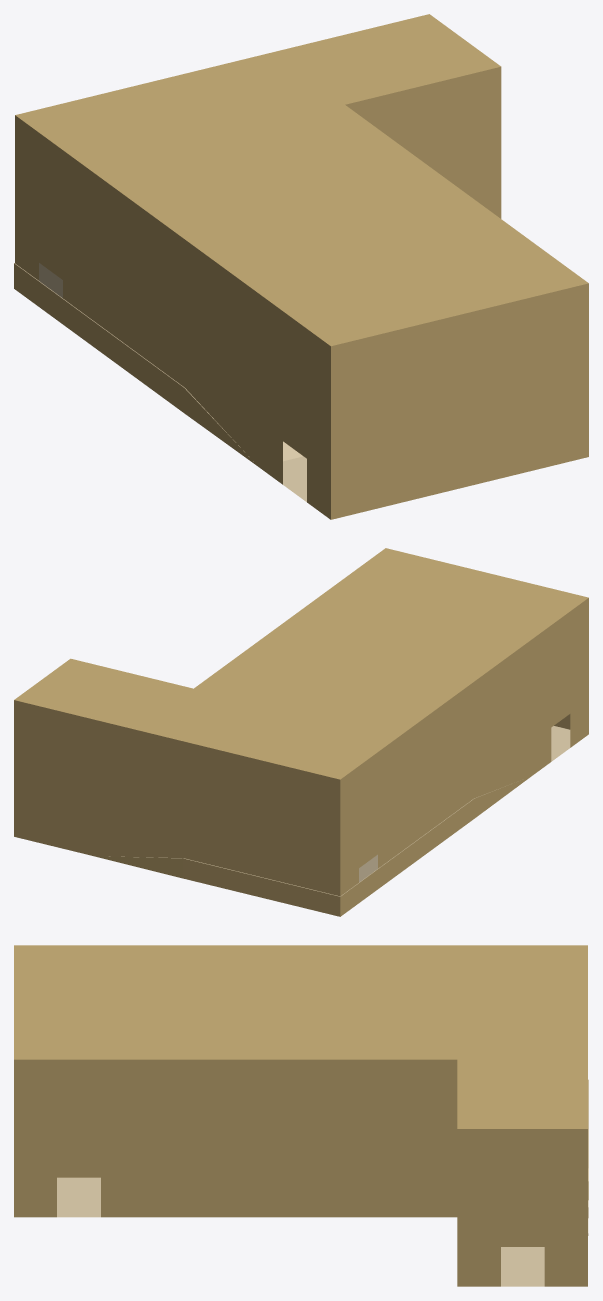
The model's file is Room003.fbx.
3 views of the same model, one above another, from view 1: azimuth 30°, elevation 25°; view 2: azimuth 150°, elevation 25°; view 3: azimuth 270°, elevation 25° (orthographic). The views are drawn at different scales.
Visible parts, largest first — view 1: Cube; view 2: Cube; view 3: Cube.
Part boxes in pixels (x1,y1,x2,y2): Cube: [14, 14, 588, 519]; Cube: [14, 548, 588, 916]; Cube: [14, 945, 588, 1286].
Bounding box in the file's own units: 3981 × 1593 × 5256.
